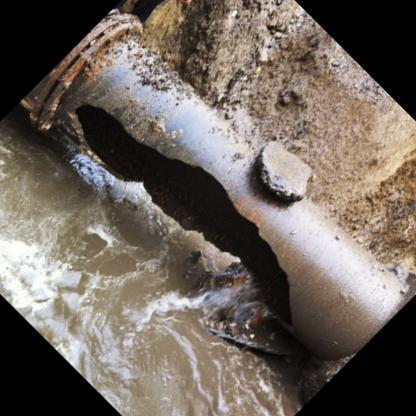burst: (74, 109, 302, 332)
